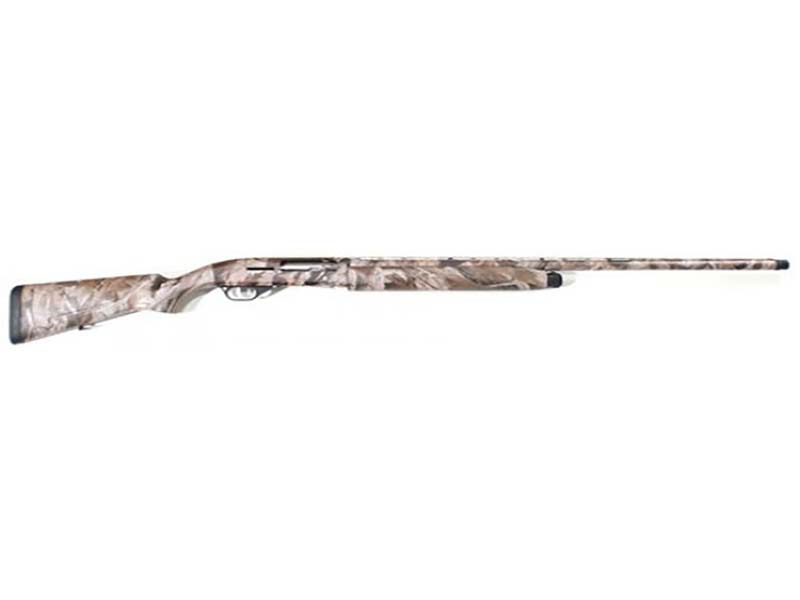fucile: (9, 237, 799, 352)
